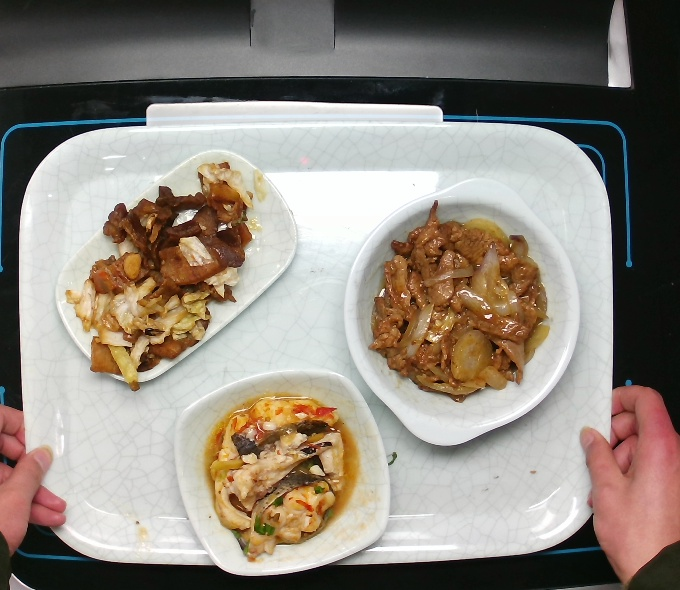wcq-DuoJiaoYuKuai: (204, 392, 357, 561)
wcq-PaoCaiRouPian: (53, 155, 265, 386)
wcq-YangCongRouPian: (364, 200, 557, 405)
